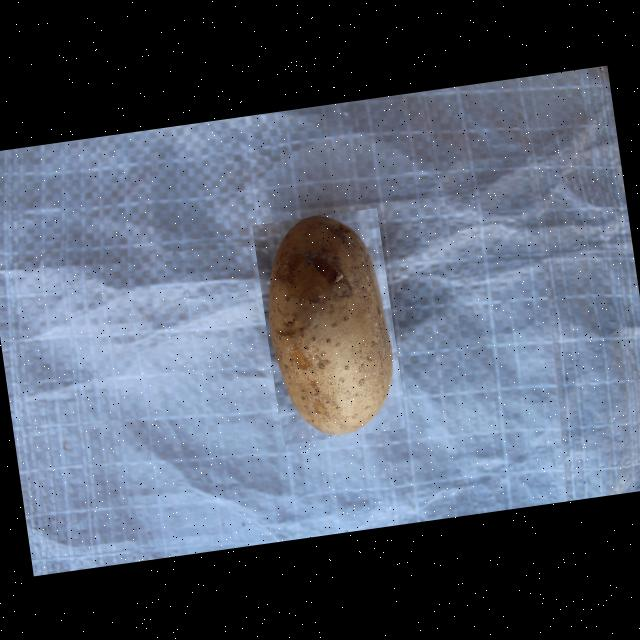Diseased-fungal potato: (251, 208, 407, 444)
